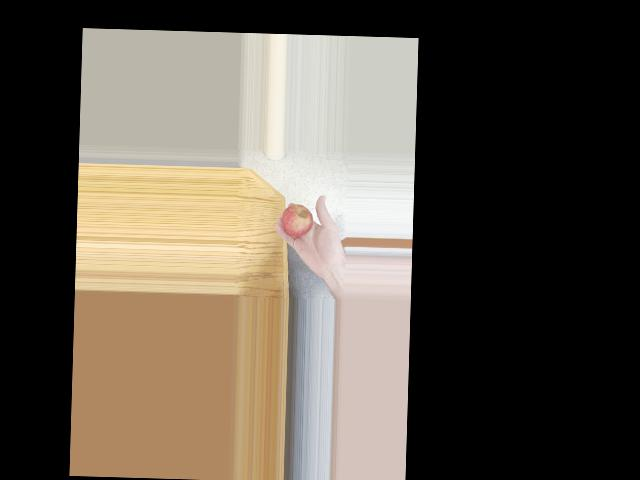apple: (281, 203, 315, 240)
